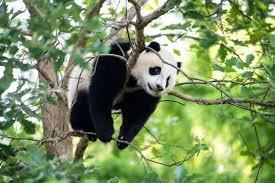bear: (69, 39, 182, 149)
